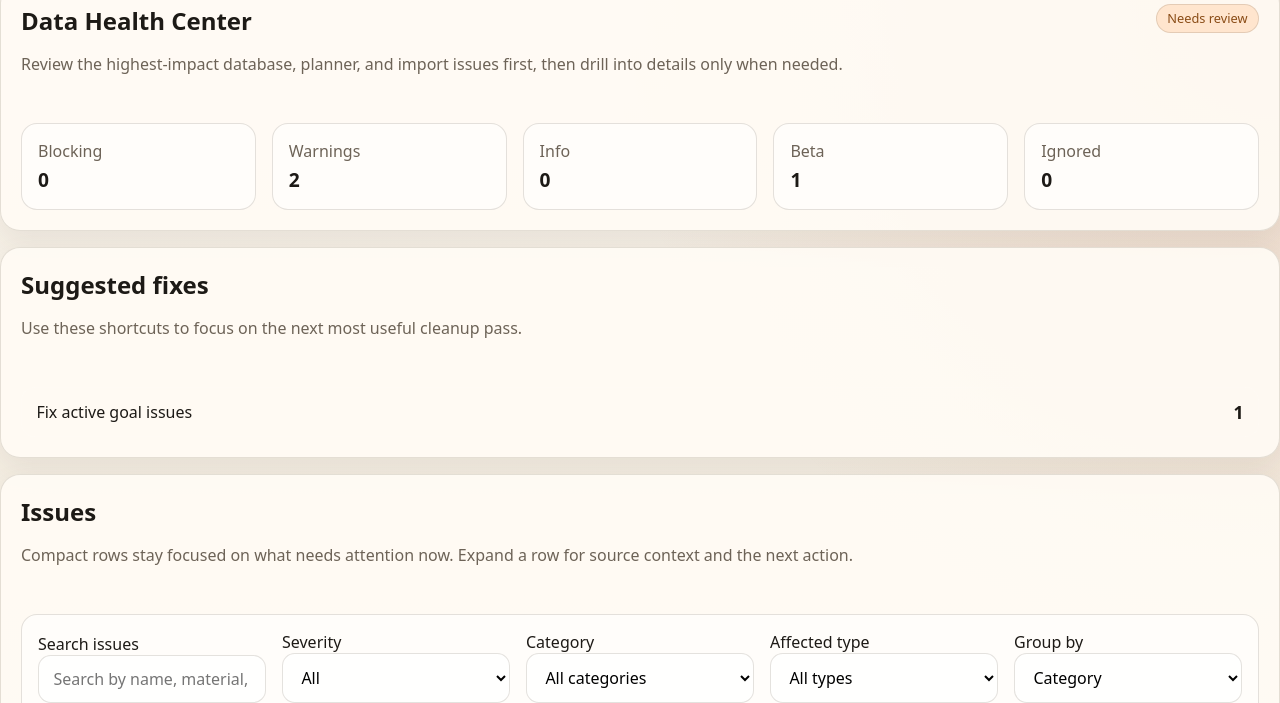
Scenario: DataHealthCenter › shows a helpful empty state when filters hide everything
Type "NoMatch" into the field labelled "Search issues".
click(152, 679); type("NoMatch")  # box [38, 655, 266, 702]
(page scrolled)
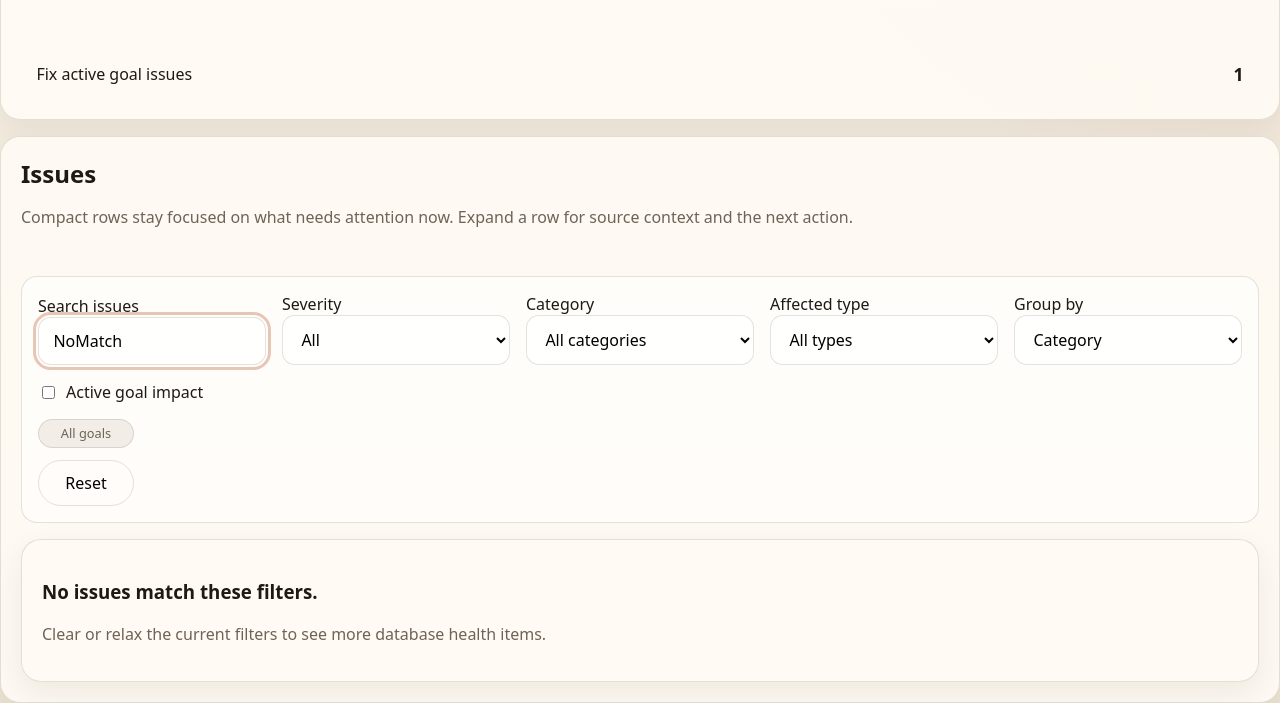
expect the heading "No issues match these filters." is shown: met, box [42, 579, 318, 604]
